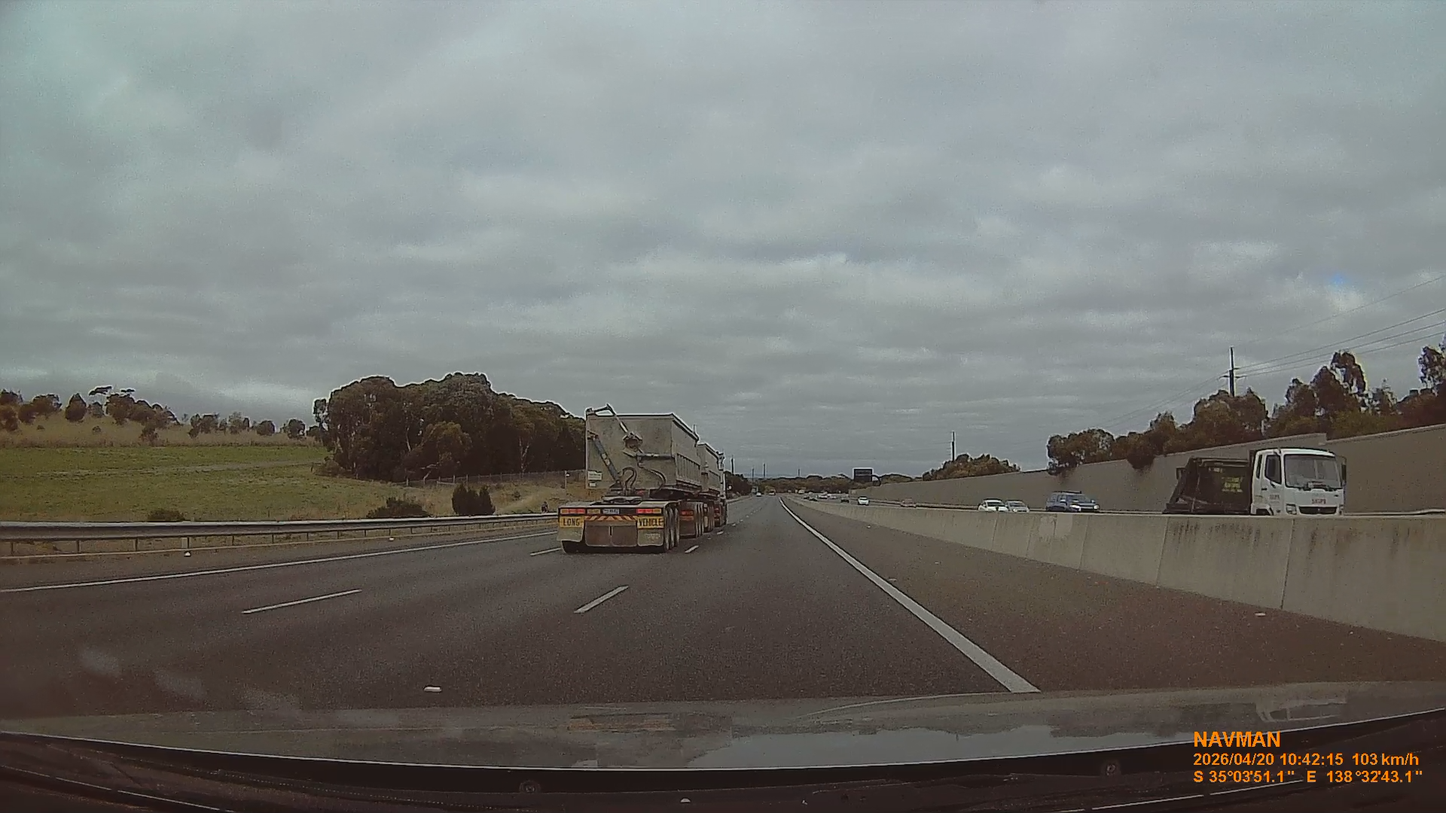road barriers: (792, 501, 1445, 642), (0, 512, 555, 566)
